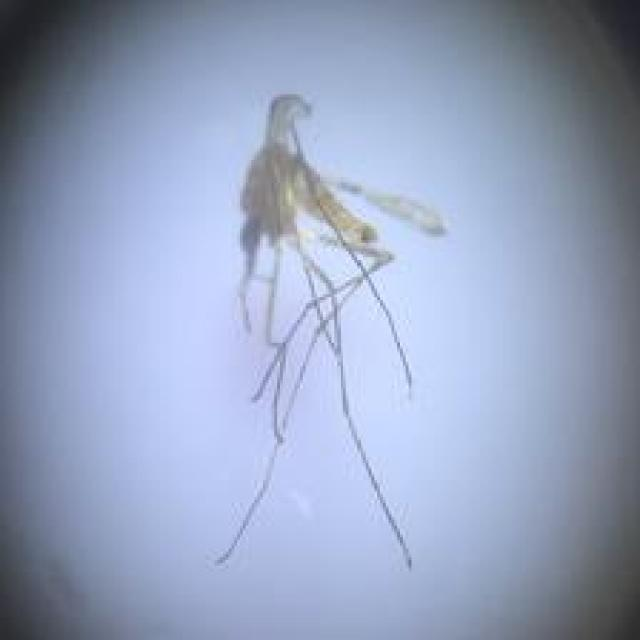Culex: (212, 90, 448, 570)
